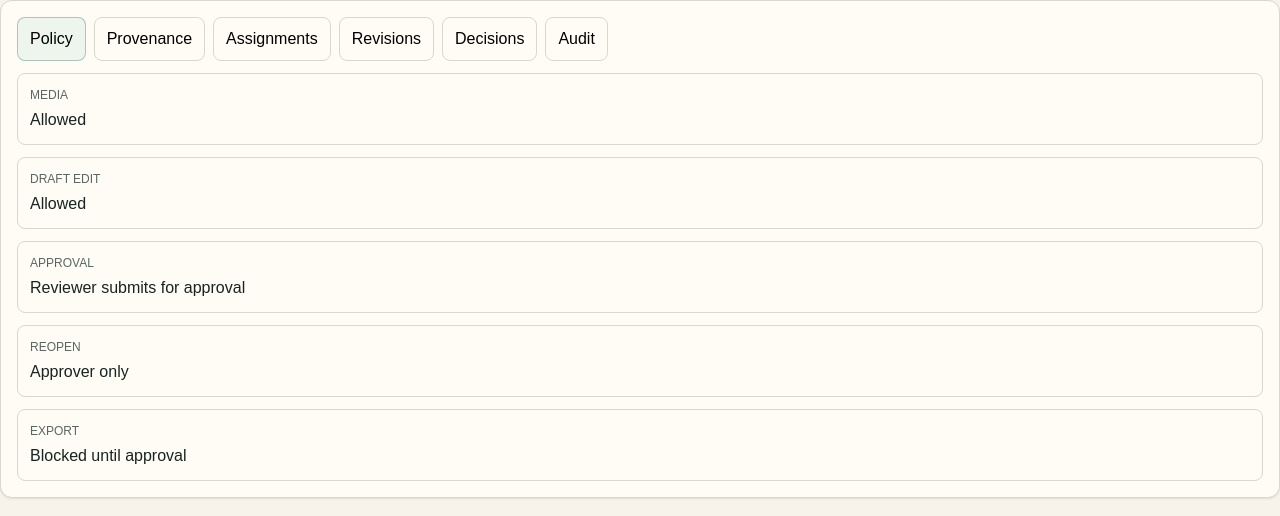
Test: GovernanceDrawer › renders a changes-requested decision row with the full note, revision version, and timestamp
Click the tab "Decisions".
click(490, 39)  # box [442, 17, 537, 61]
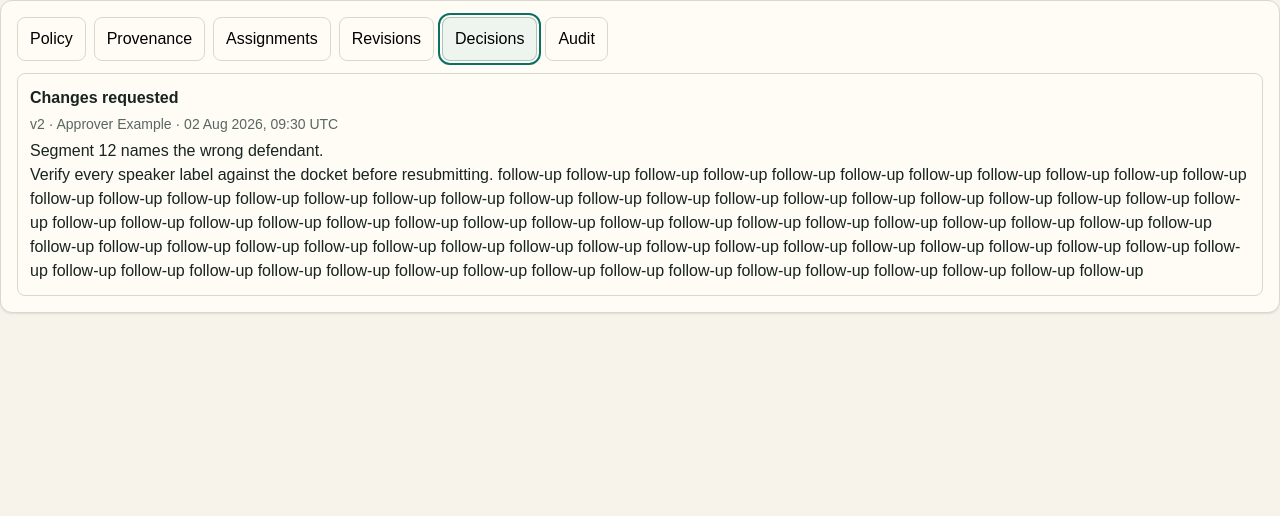
Expected: the number of list items with class "governance-decision" is 1, [17, 73, 1263, 296]
Expected: the list item with class "governance-decision" shows "Changes requested", [30, 89, 178, 106]
Expected: the list item with class "governance-decision" shows "v2", [30, 116, 45, 132]
